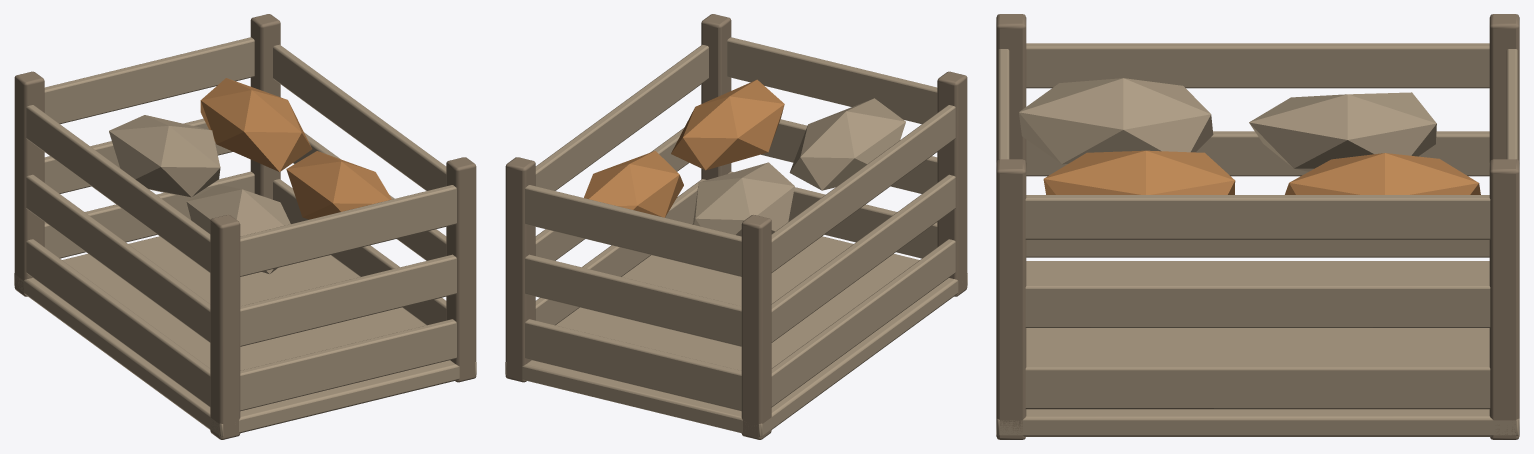
File: bread_crate.fbx
3 views of the same model, side by side, from view 1: azimuth 30°, elevation 25°; view 2: azimuth 150°, elevation 25°; view 3: azimuth 270°, elevation 25° (orthographic). The views are drawn at different scales.
Visible parts, largest first — view 1: bread_crate; view 2: bread_crate; view 3: bread_crate.
Part boxes in pixels (x1,y1,x2,y2): bread_crate: (14, 14, 476, 439); bread_crate: (505, 14, 967, 439); bread_crate: (996, 14, 1519, 439).
Bounding box in the file's own units: 0.5 × 0.7 × 0.4.
